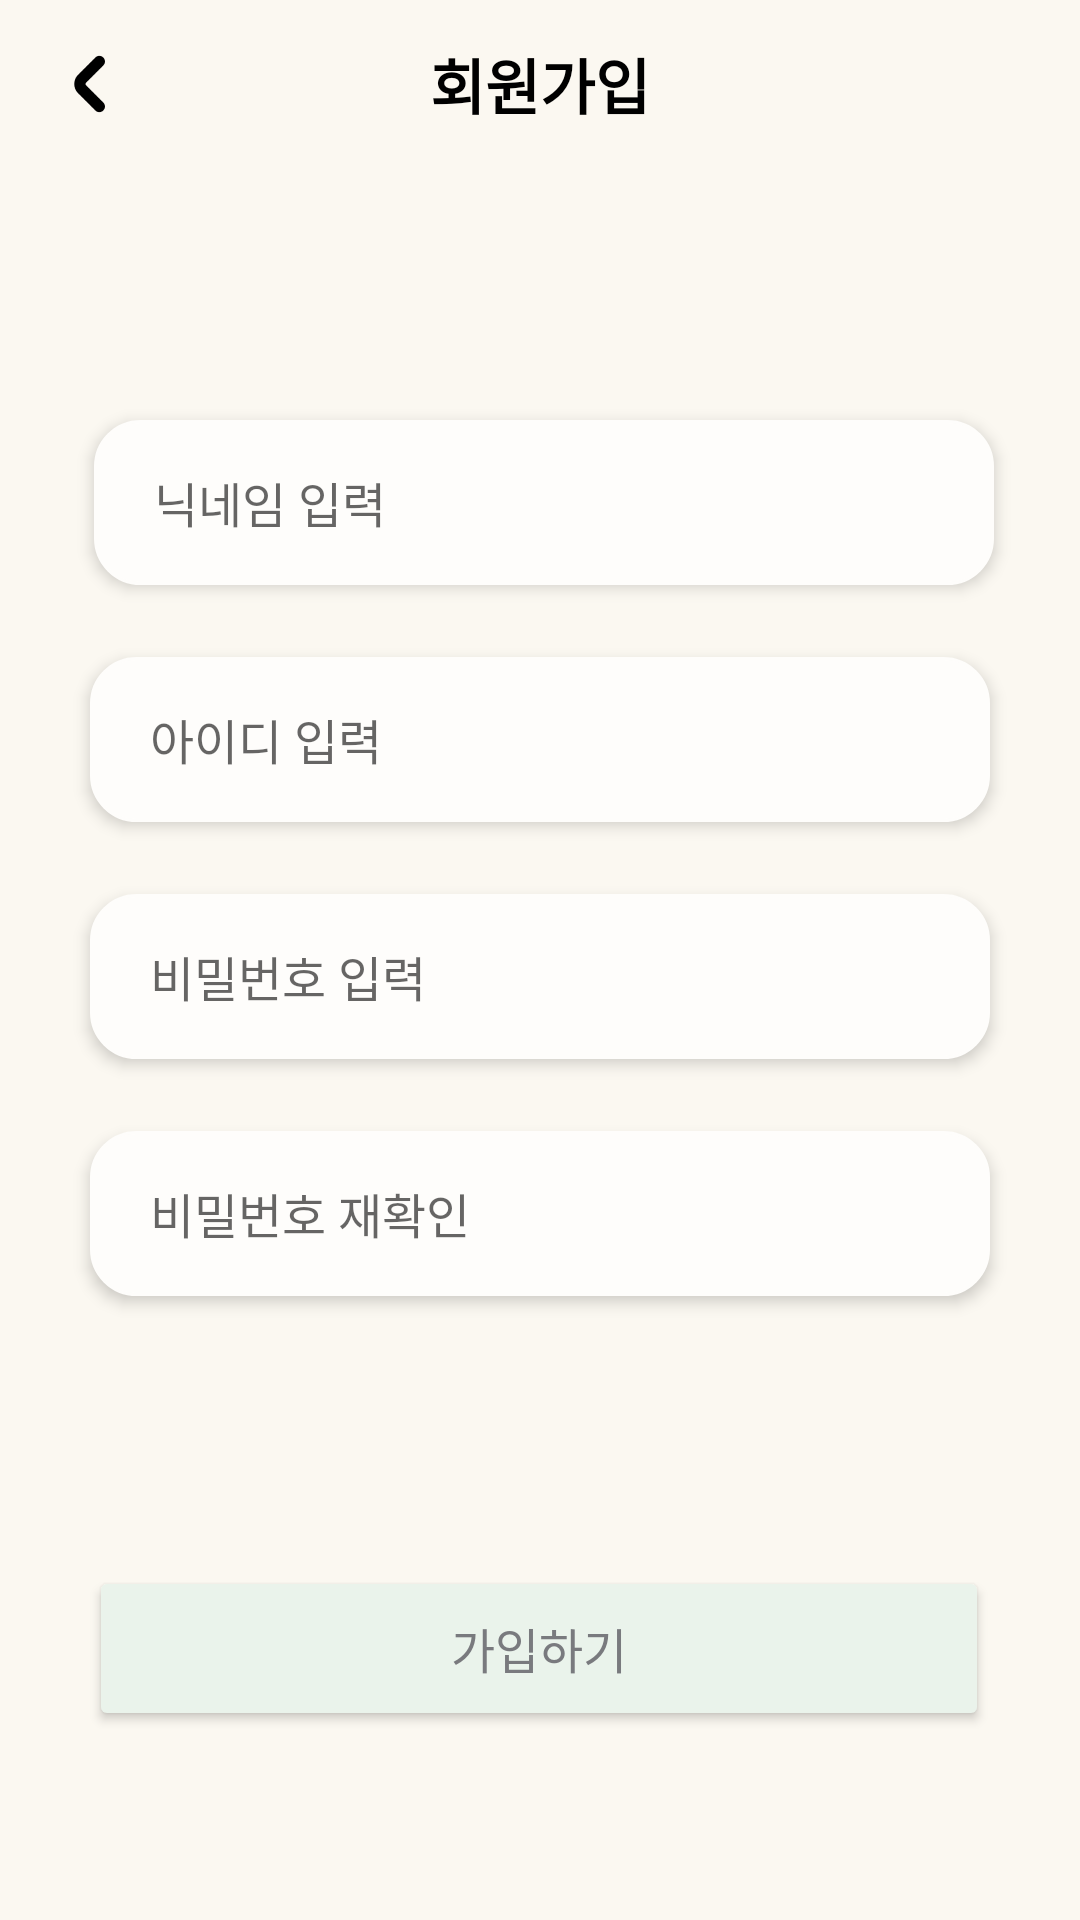

Screen size 1080 × 1920. Icon name, then its box in pixels as (x1, y1, x2, y2):
back: (74, 55, 105, 113)
